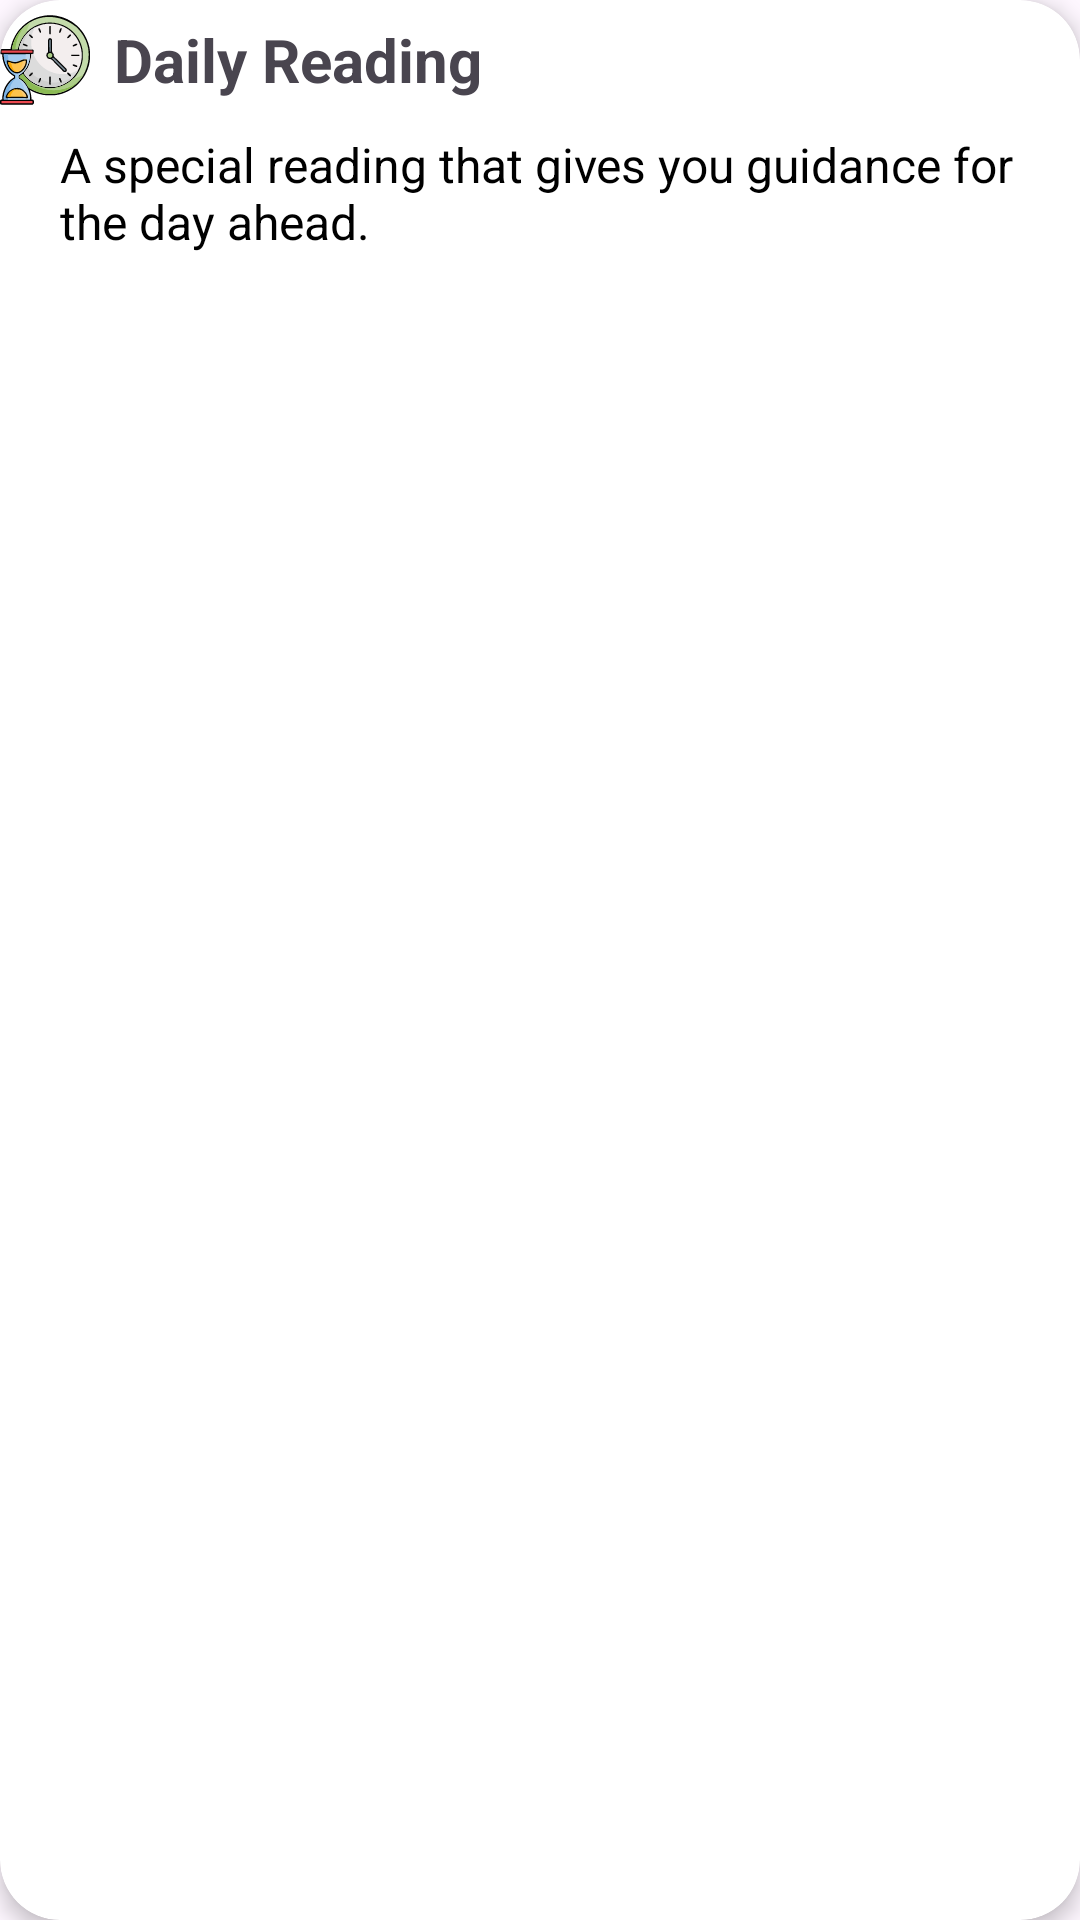

Named icons in this screenshot (1080px x 1920px) and their centers, [x,y]:
time: [45,52]
